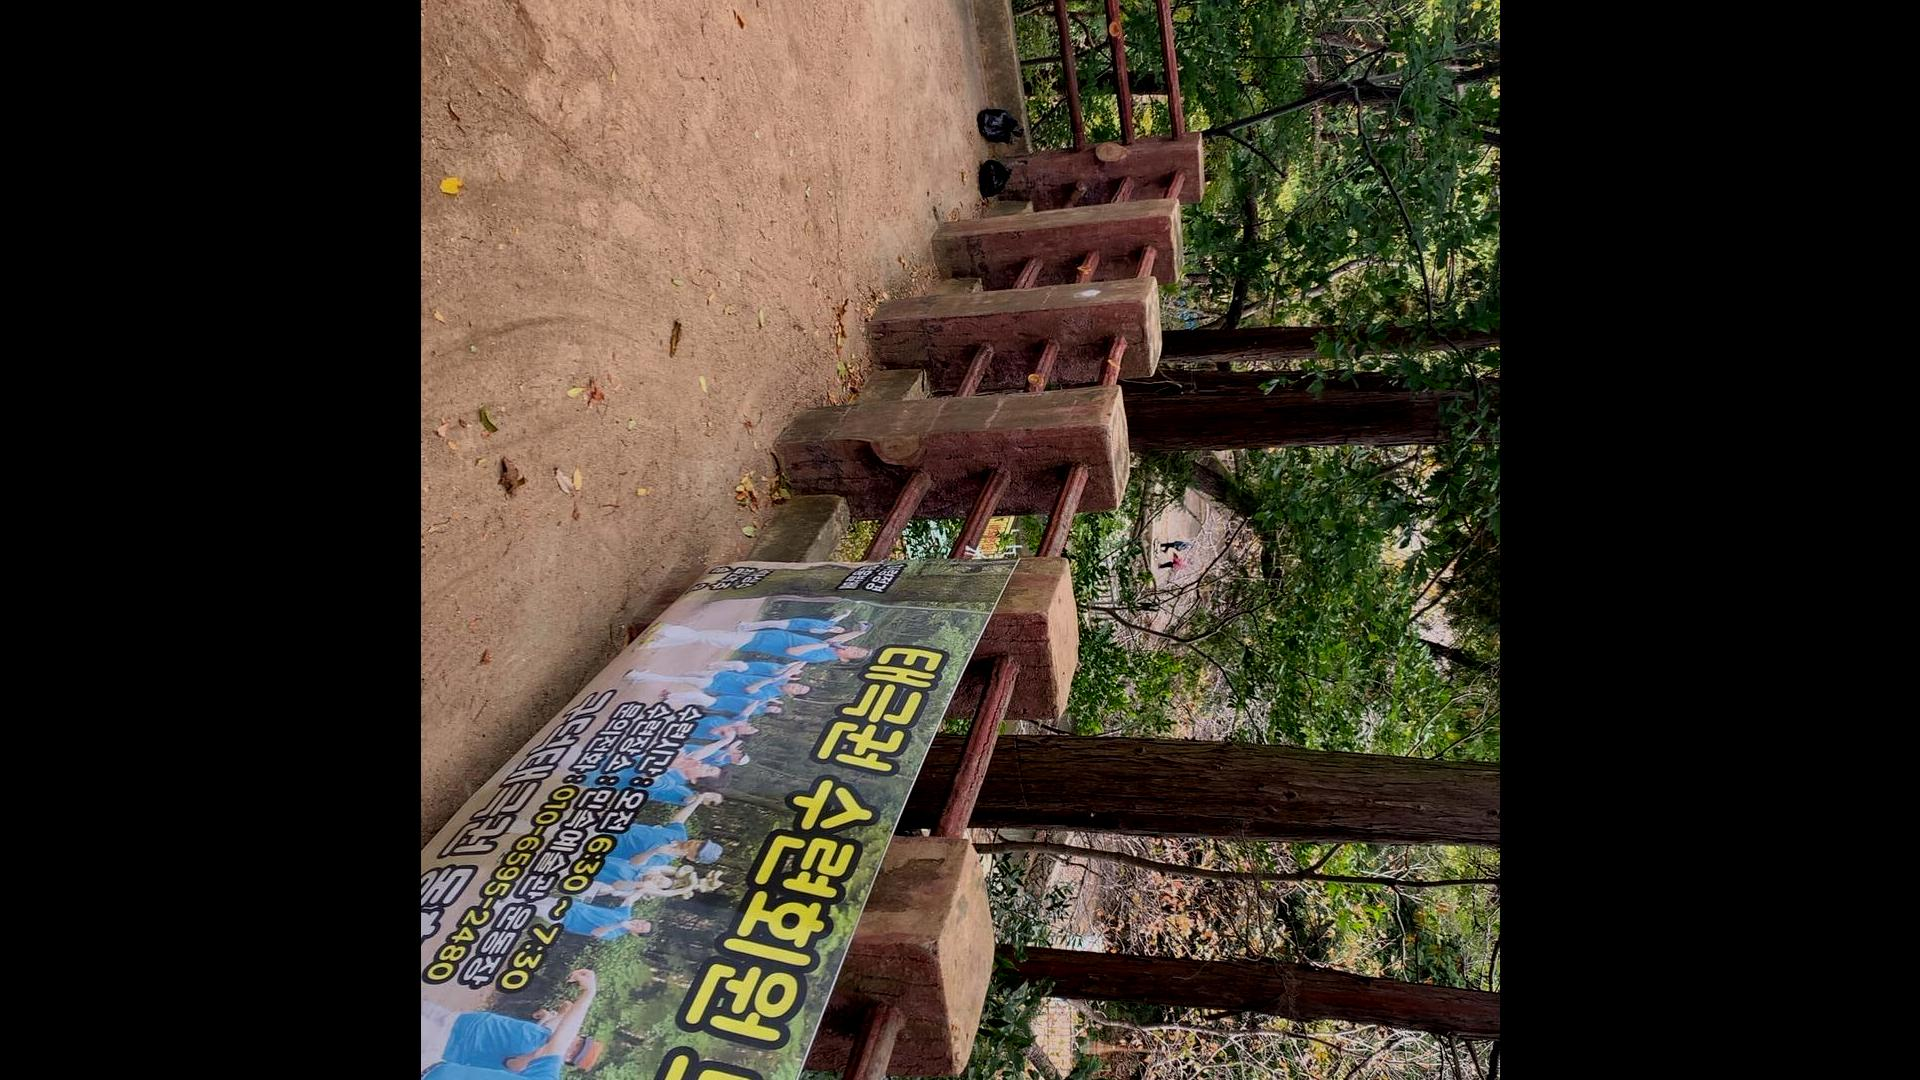black_bag: (976, 105, 1026, 145), (976, 156, 1014, 202)
